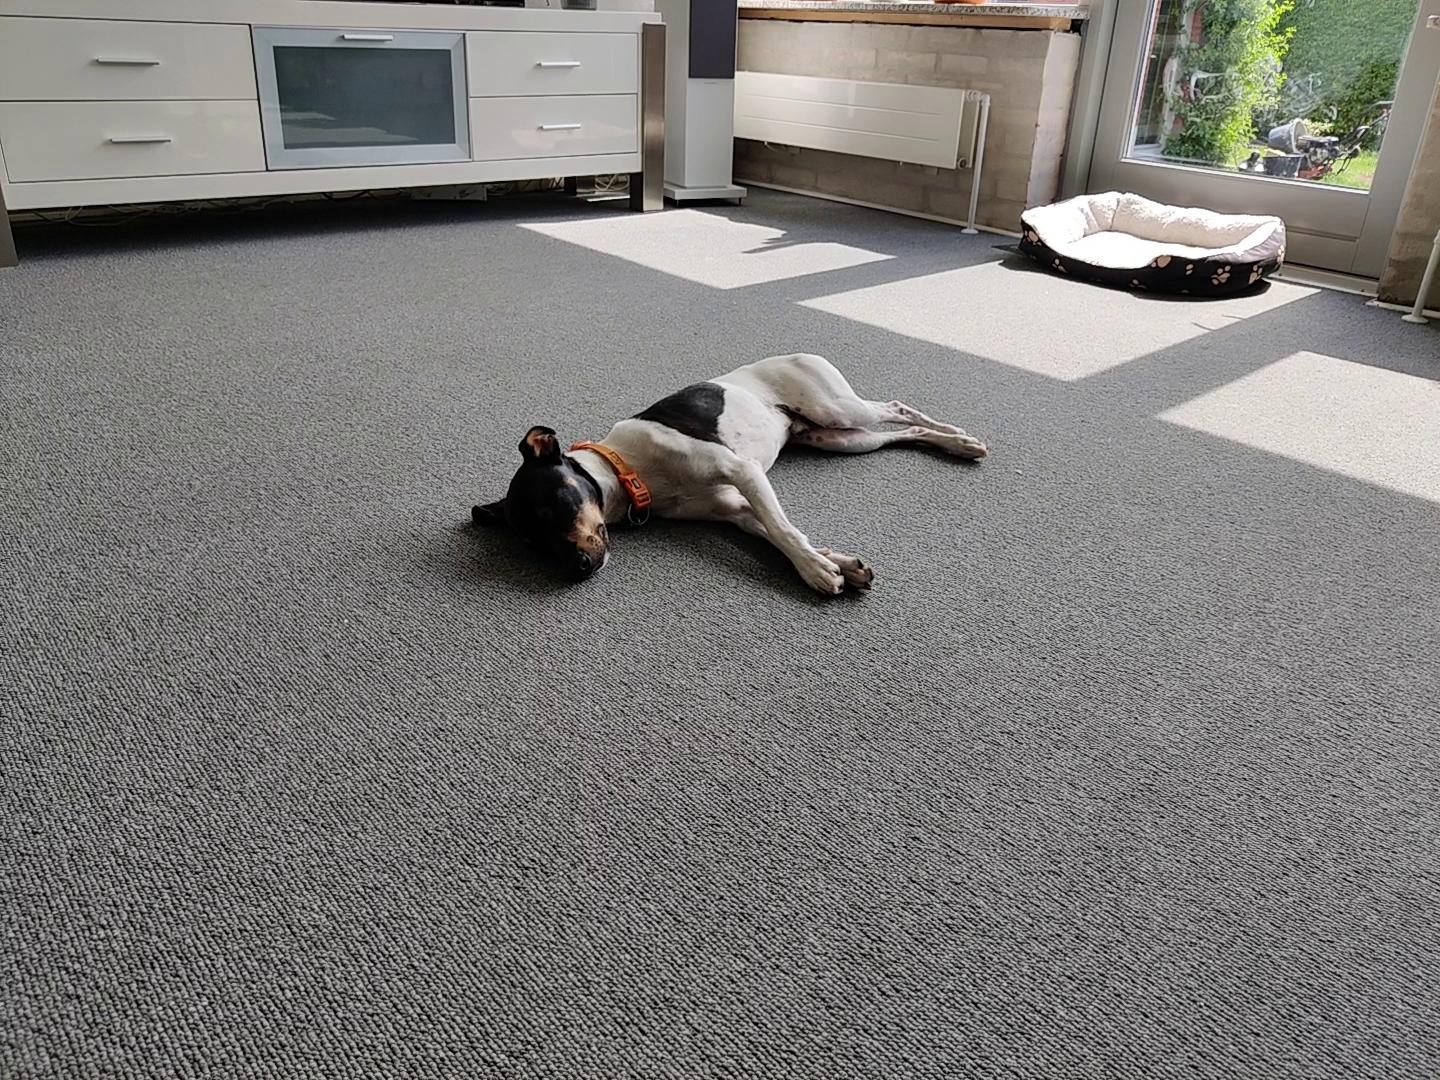Dog: (463, 347, 990, 604)
